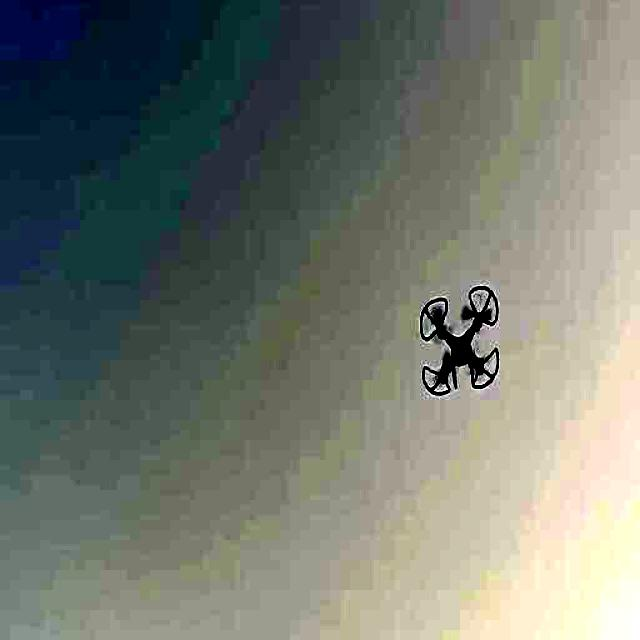bird: (410, 270, 508, 419)
